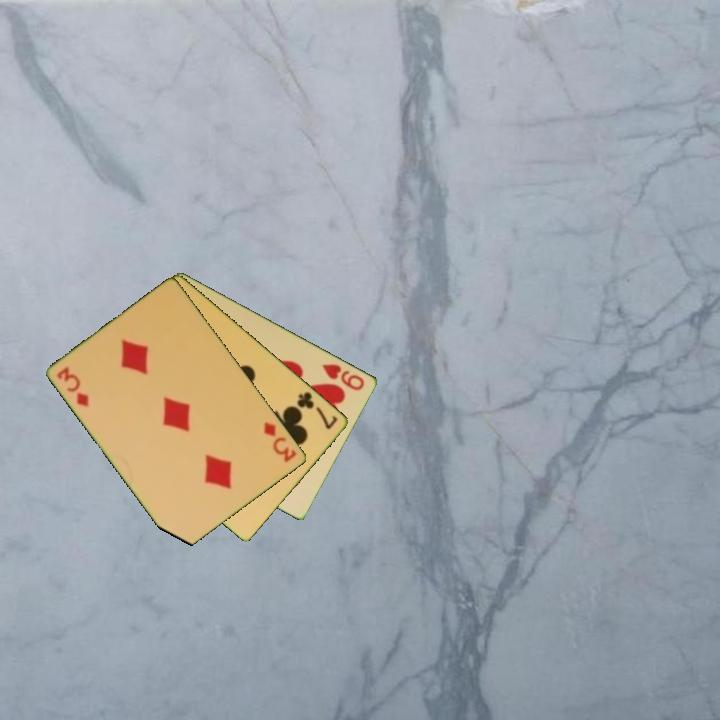3d: (261, 418, 300, 465), (53, 363, 92, 410)
7c: (294, 388, 341, 432)
9h: (319, 360, 368, 394)
